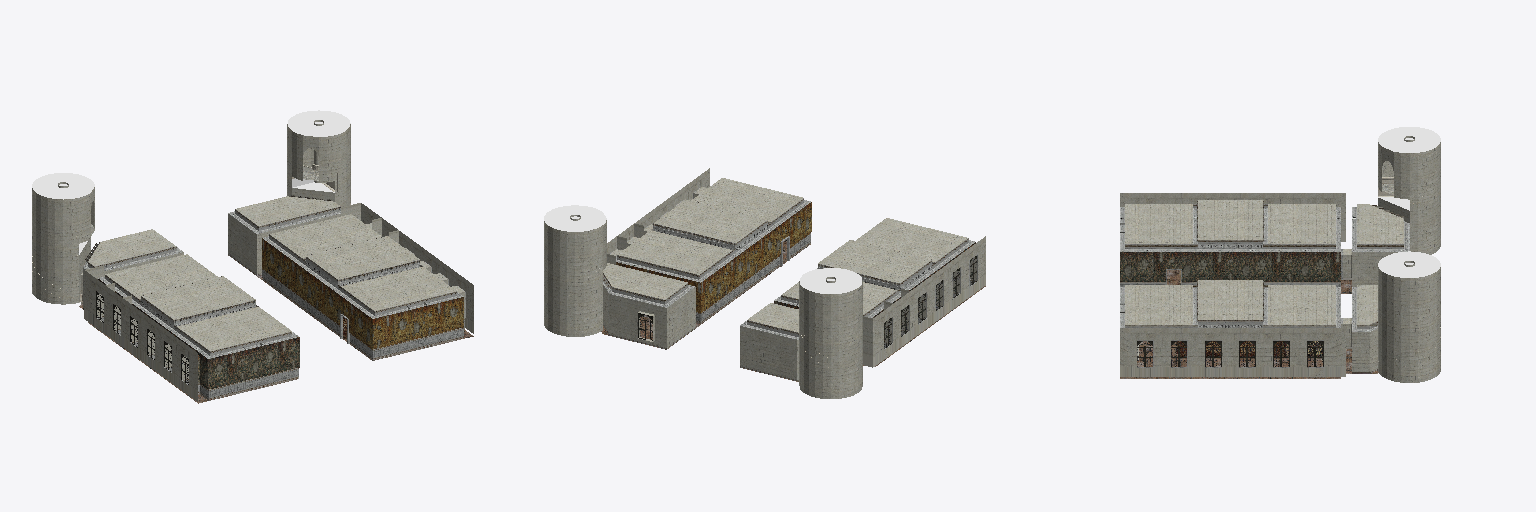
The picture shows the model from 3 angles: view 1: azimuth 30°, elevation 25°; view 2: azimuth 150°, elevation 25°; view 3: azimuth 270°, elevation 25°; orthographic projection.
Parts seen in each view (by area): view 1: mesh14, mesh3, mesh0, mesh10, mesh25, mesh26; view 2: mesh14, mesh0, mesh10, mesh3, mesh26, mesh25, mesh2; view 3: mesh14, mesh0, mesh3, mesh10, mesh26, mesh2, mesh20, mesh4, mesh25.
Boxes of the visible parts, box(x1,y1,x2,y2) form: mesh14: box(32, 120, 464, 379); mesh3: box(98, 238, 463, 389); mesh0: box(84, 203, 473, 401); mesh10: box(83, 195, 465, 385); mesh25: box(98, 269, 464, 400); mesh26: box(32, 110, 350, 254); mesh14: box(544, 178, 976, 398); mesh0: box(607, 168, 985, 367); mesh10: box(603, 188, 977, 348); mesh3: box(616, 202, 975, 341); mesh26: box(544, 205, 861, 293); mesh25: box(696, 233, 975, 359); mesh2: box(601, 240, 985, 381); mesh14: box(1125, 136, 1440, 382); mesh0: box(1120, 193, 1345, 376); mesh3: box(1120, 252, 1340, 281); mesh10: box(1120, 200, 1409, 367); mesh26: box(1378, 127, 1440, 277); mesh2: box(1120, 270, 1378, 378); mesh20: box(1137, 341, 1323, 366); mesh4: box(1175, 270, 1322, 356); mesh25: box(1120, 282, 1340, 377).
Size of the model in its own units: 34.01 by 11.62 by 30.58.
28 materials, 21 textured.